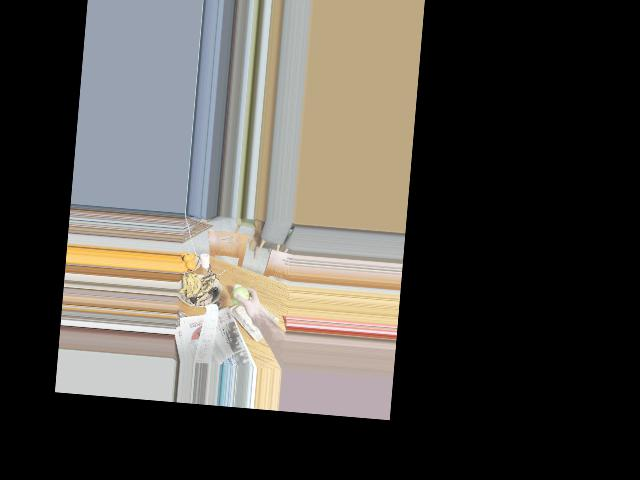apple: (230, 285, 251, 307)
